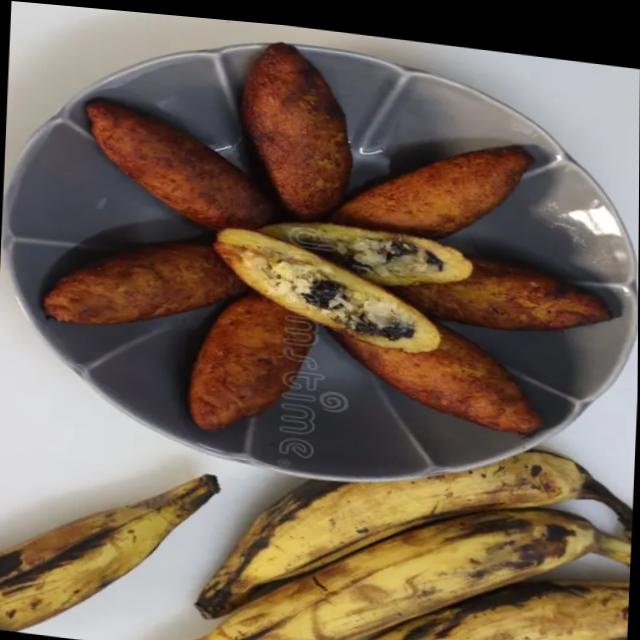BANANA: (192, 449, 632, 640), (0, 473, 219, 631)
